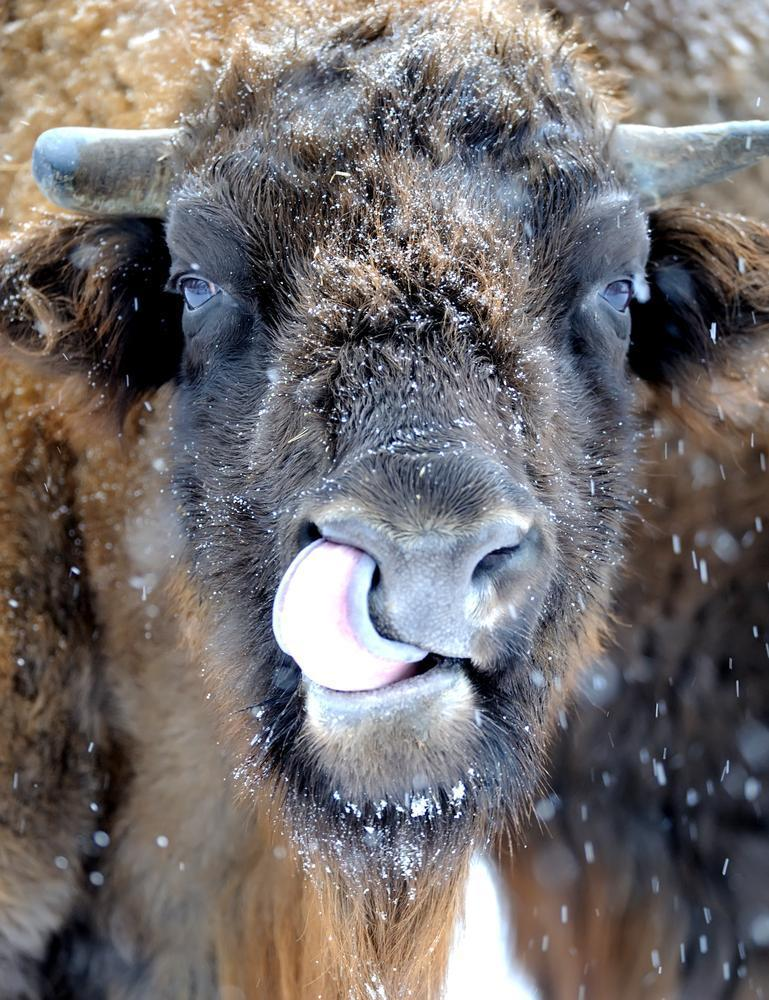zubr: (14, 1, 736, 980)
